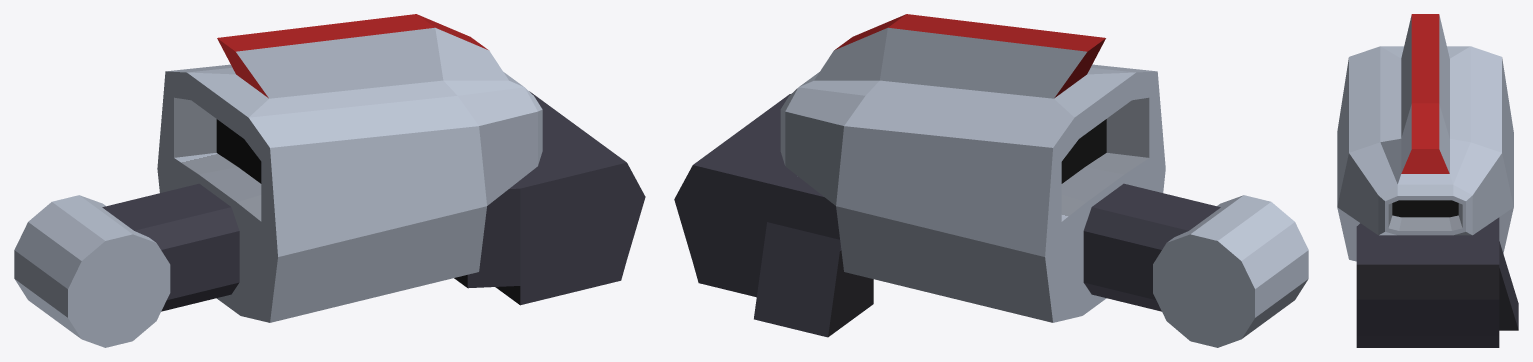
The model's file is Rush_ArmR.obj.
The picture shows the model from 3 angles, left to right: view 1: azimuth 30°, elevation 25°; view 2: azimuth 150°, elevation 25°; view 3: azimuth 270°, elevation 25°; orthographic projection. The views are drawn at different scales.
Visible parts, largest first — view 1: Forearm, cuboid, cylinder, Arm; view 2: Forearm, cuboid, cylinder, Arm; view 3: Forearm, cuboid.
Boxes of the visible parts, box(x1,y1,x2,y2) form: Forearm: box(157, 14, 542, 322); cuboid: box(454, 91, 645, 305); cylinder: box(14, 195, 170, 347); Arm: box(102, 183, 239, 311); Forearm: box(780, 14, 1165, 322); cuboid: box(674, 94, 873, 337); cylinder: box(1153, 195, 1308, 347); Arm: box(1083, 183, 1220, 311); Forearm: box(1337, 14, 1513, 261); cuboid: box(1356, 217, 1518, 347).
Bounding box in the file's own units: 0.75 × 0.3807 × 0.2891.
1 material, 1 textured.
